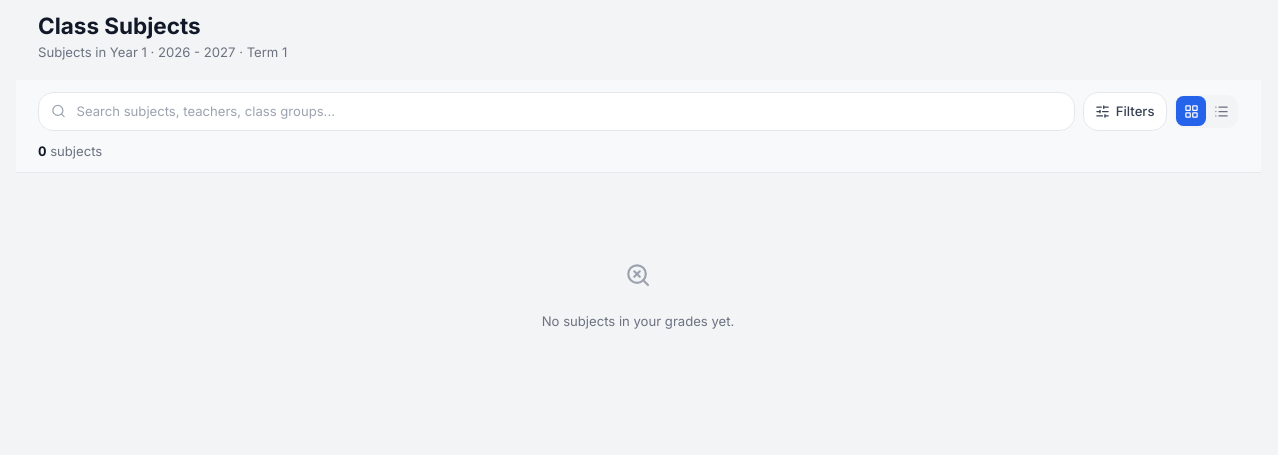
Scenario: ClassTeacherSubjectsPage filtering › offers a way out when filters match nothing
Click the button "Filters". click: (1125, 111)
box: [1083,92,1167,131]
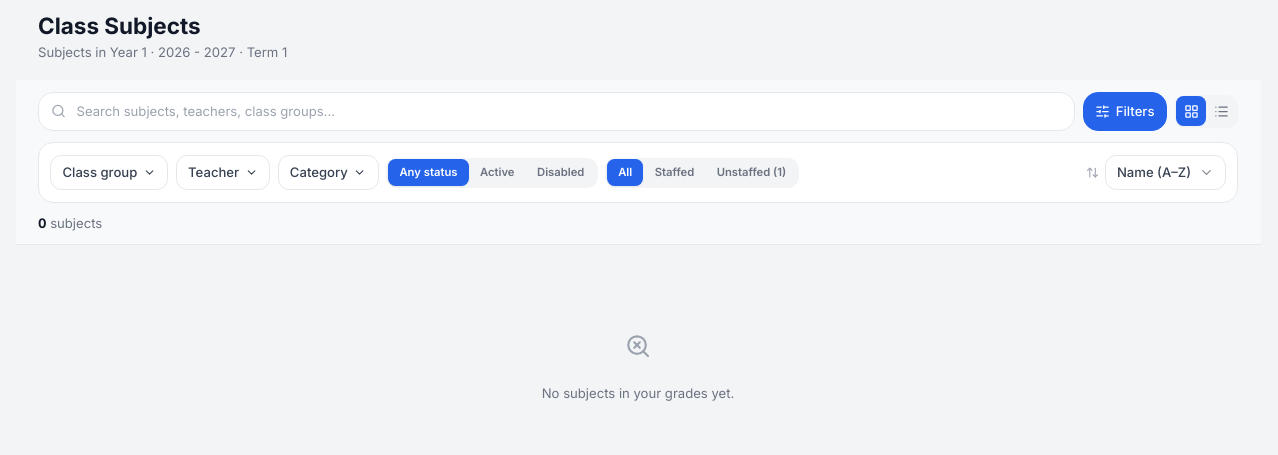
Click the button "Teacher". click: (223, 172)
box: [176,155,270,190]
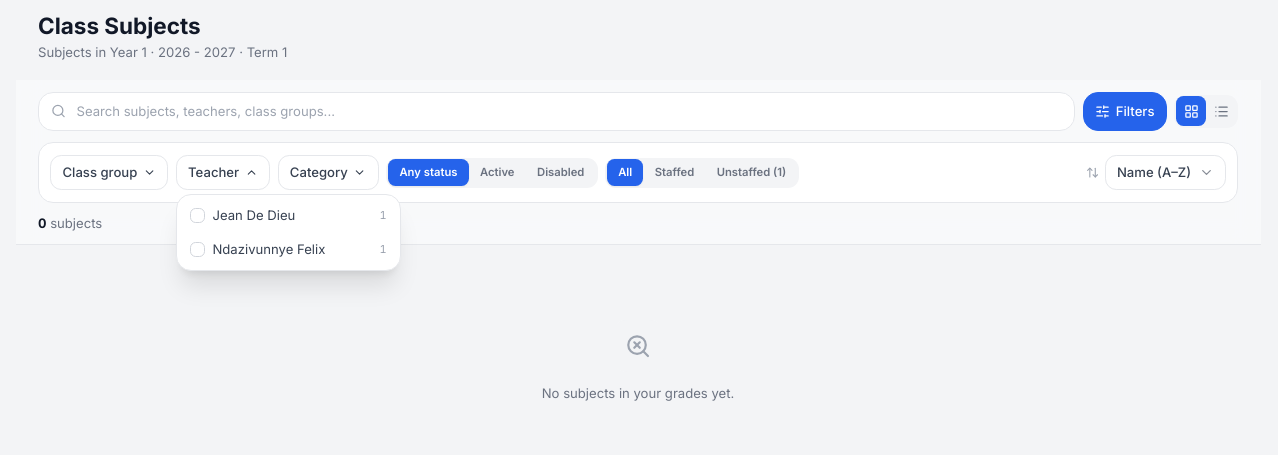
Click the text "Ndazivunnye Felix". click: (269, 249)
box: [212,241,325,257]
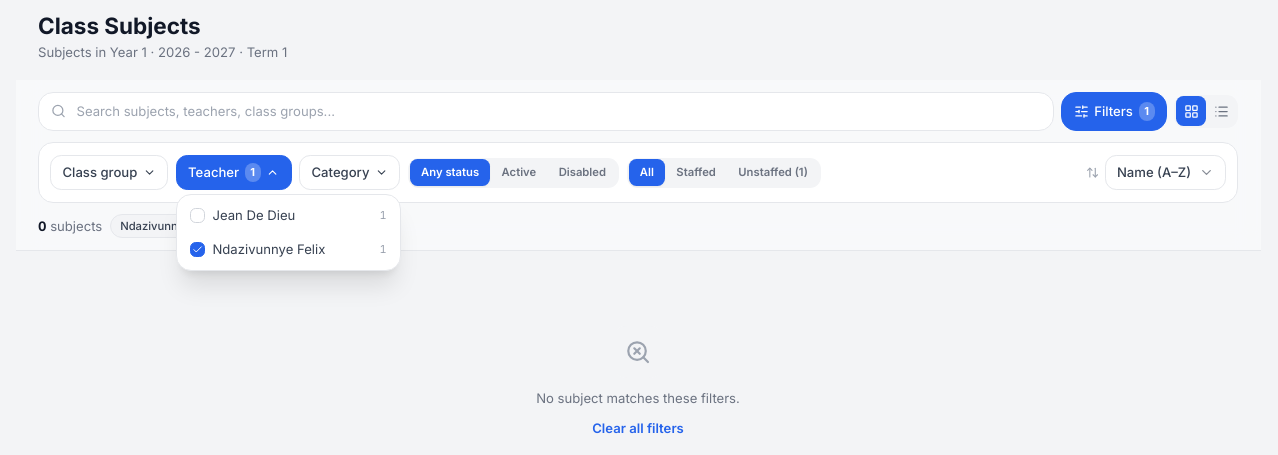
Expected: the text "No subject matches these filters." is shown, [536,390,740,406]
Expected: the button "Clear all filters" is shown, [592,419,684,438]
